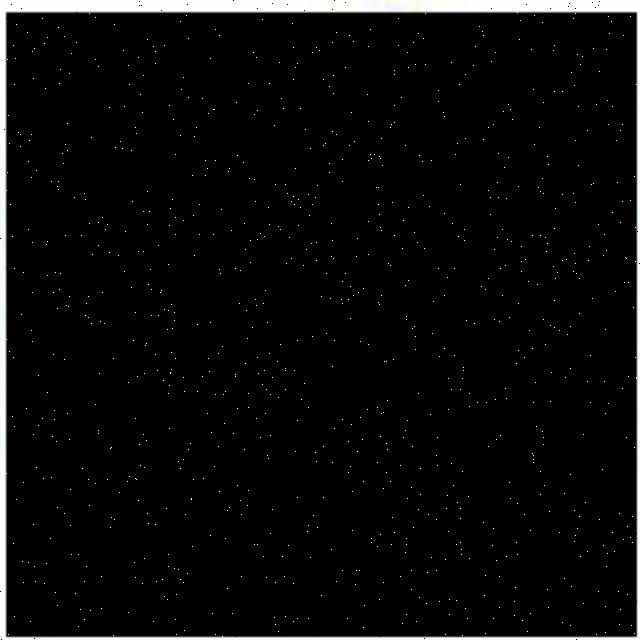Capsicum: (6, 12, 637, 637)
